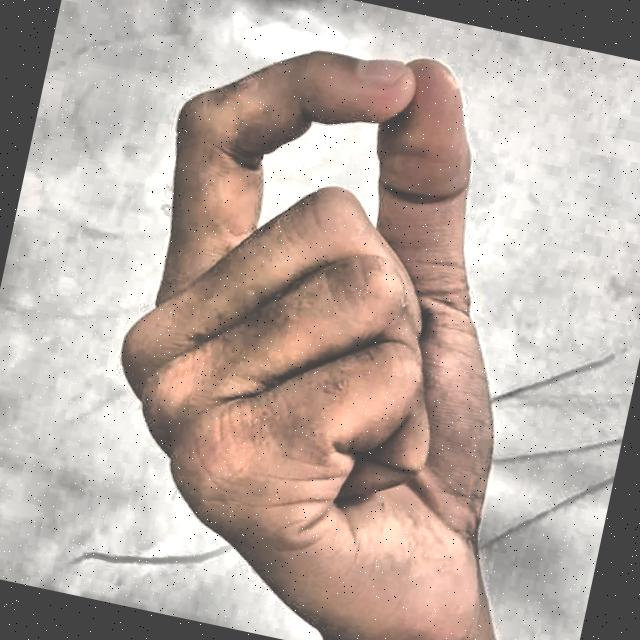Gha: (28, 0, 631, 640)
